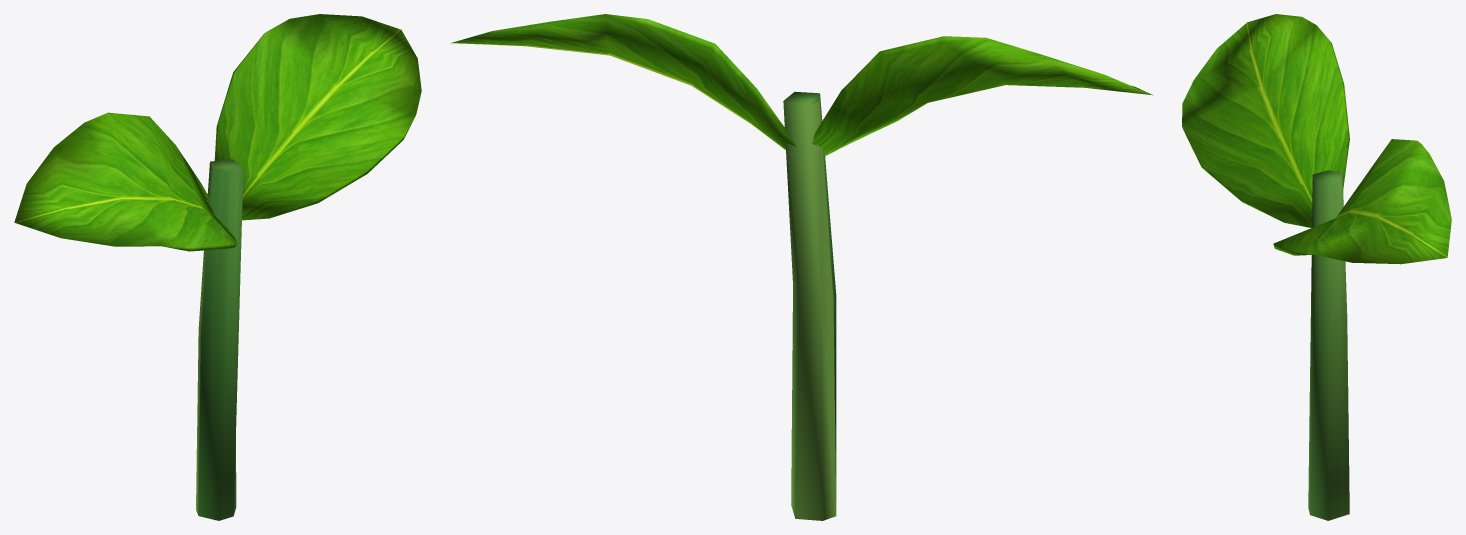
File: NP_Marigold_Sprout_LOD1.fbx
3 renders of one model, left to right at view 1: azimuth 30°, elevation 25°; view 2: azimuth 150°, elevation 25°; view 3: azimuth 270°, elevation 25°, orthographic. The views are drawn at different scales.
Visible parts, largest first — view 1: NP_Marigold_Sprout; view 2: NP_Marigold_Sprout; view 3: NP_Marigold_Sprout.
Part boxes in pixels (x1=…): NP_Marigold_Sprout: x1=14, y1=14, x2=421, y2=520; NP_Marigold_Sprout: x1=451, y1=14, x2=1152, y2=520; NP_Marigold_Sprout: x1=1182, y1=14, x2=1451, y2=520.
Bounding box in the file's own units: 15.62 × 13.03 × 7.59.
